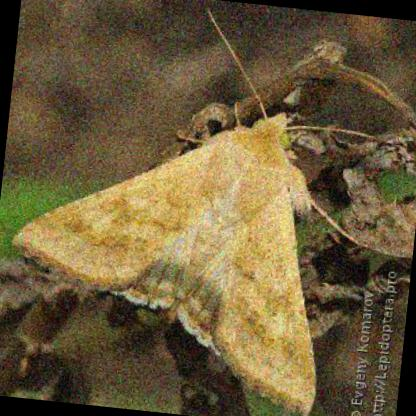helicoverpa: (12, 111, 319, 414)
